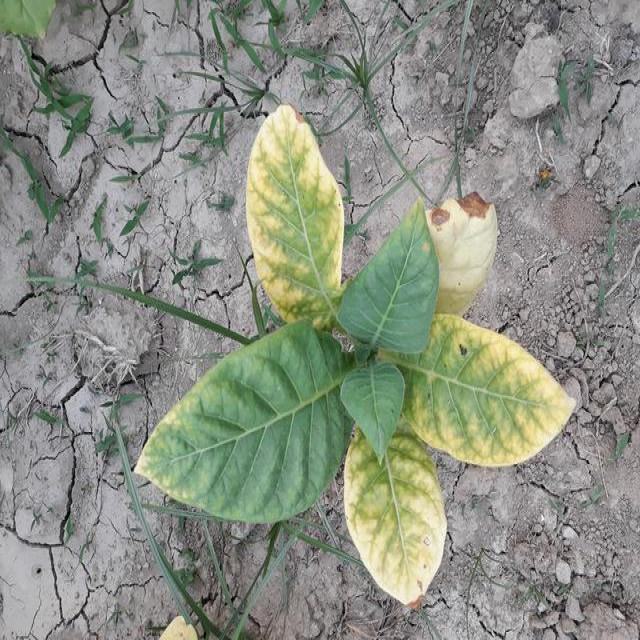crop: (149, 109, 584, 596)
